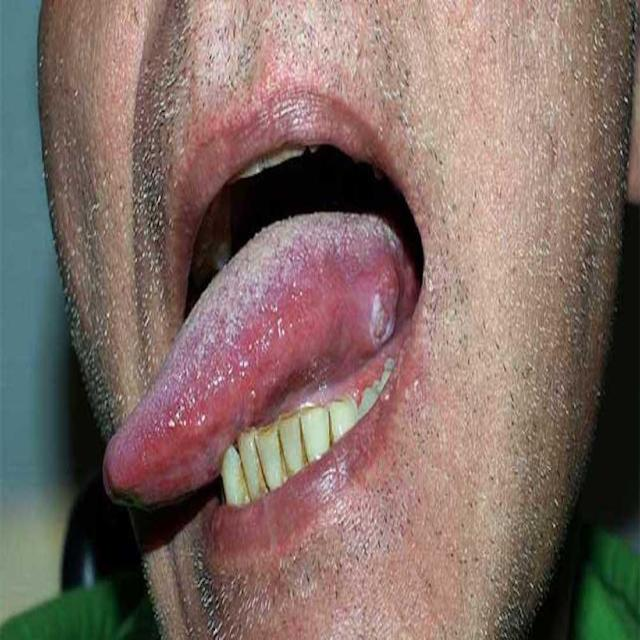discolored_patch: (101, 207, 403, 511)
